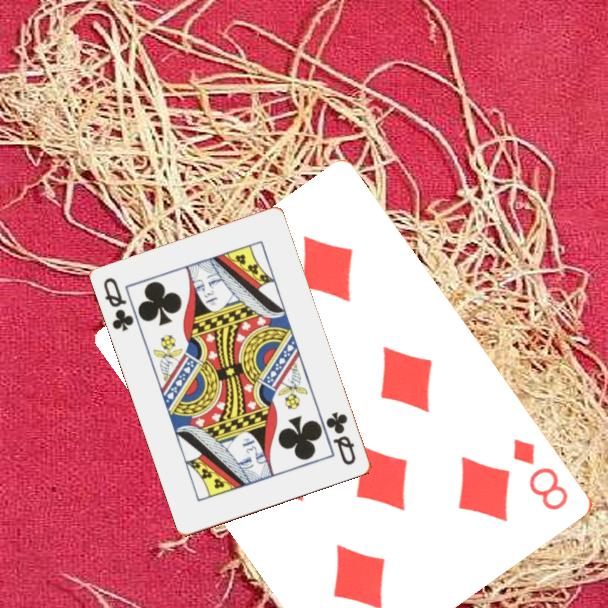c12: (100, 274, 137, 334), (323, 408, 359, 468)
d08: (510, 435, 572, 514)
